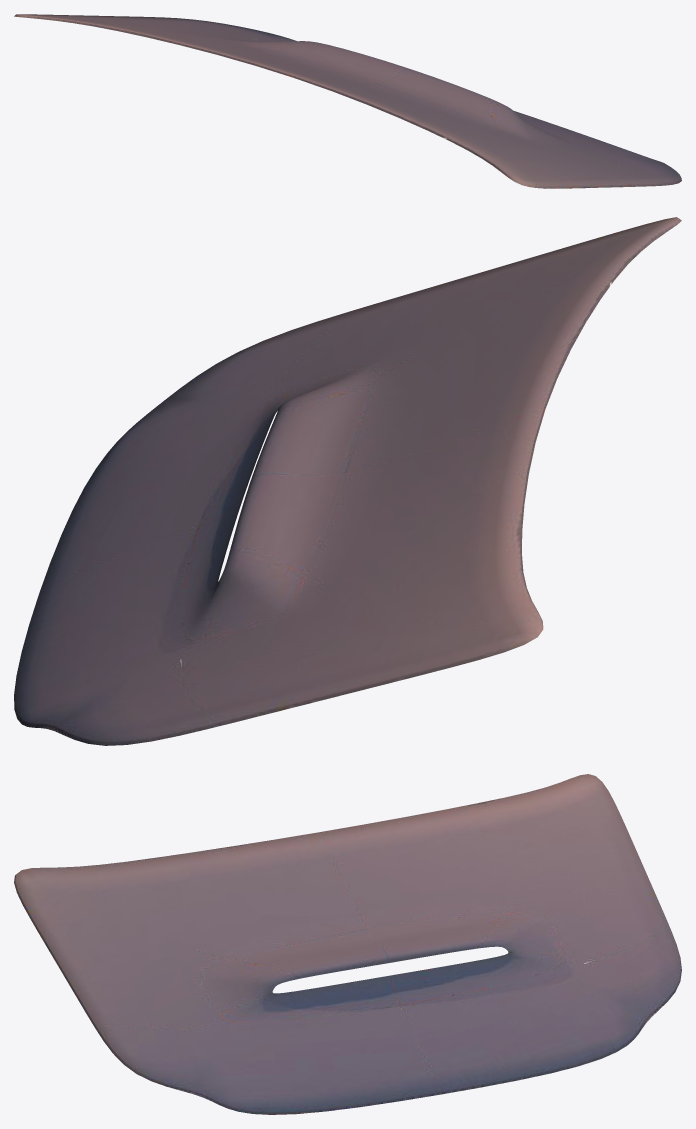
File: hood.glb
3 views of the same model, one above another, from view 1: azimuth 30°, elevation 25°; view 2: azimuth 150°, elevation 25°; view 3: azimuth 270°, elevation 25° (orthographic). The views are drawn at different scales.
Visible parts, largest first — view 1: hoodmove.001; view 2: hoodmove.001; view 3: hoodmove.001.
Boxes of the visible parts, x1,y1,x2,y2 form: hoodmove.001: (14, 14, 681, 188); hoodmove.001: (14, 217, 681, 745); hoodmove.001: (14, 774, 681, 1114).
Size of the model in its own units: 0.881 by 0.261 by 1.15.
Materials: 1 (1 with a texture image).
